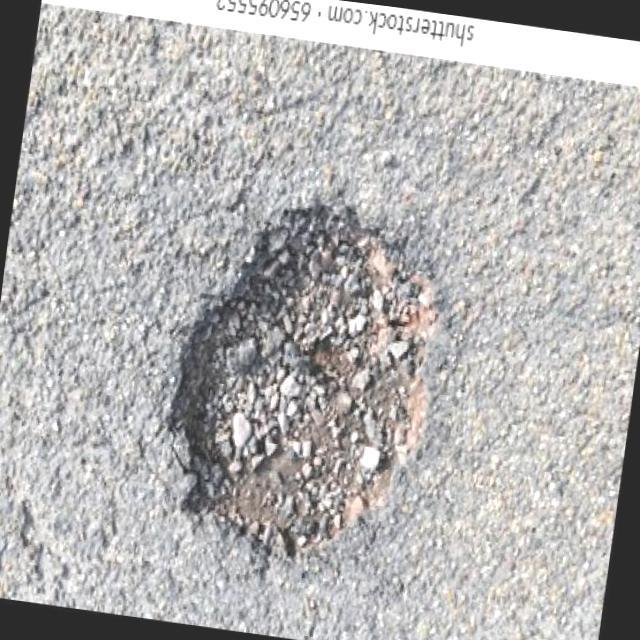Pothole: (166, 201, 440, 556)
